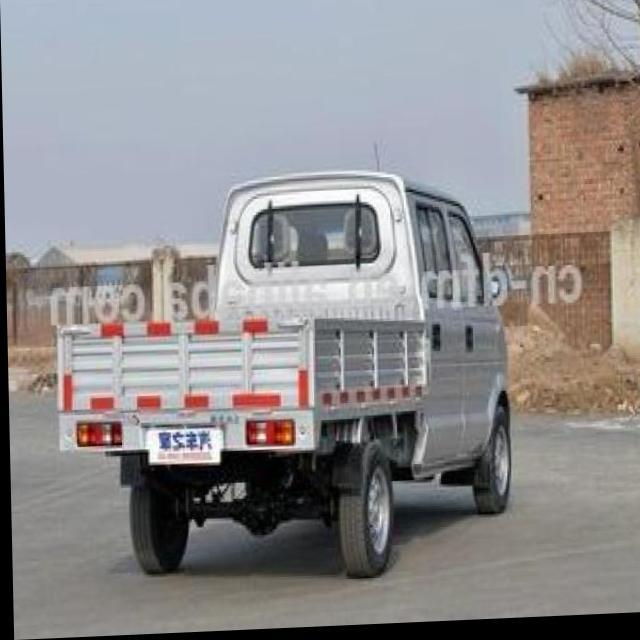uncovered: (55, 218, 565, 577)
